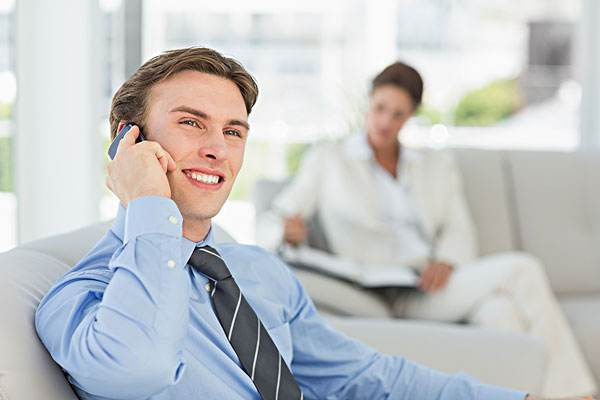calling: (101, 120, 176, 200)
